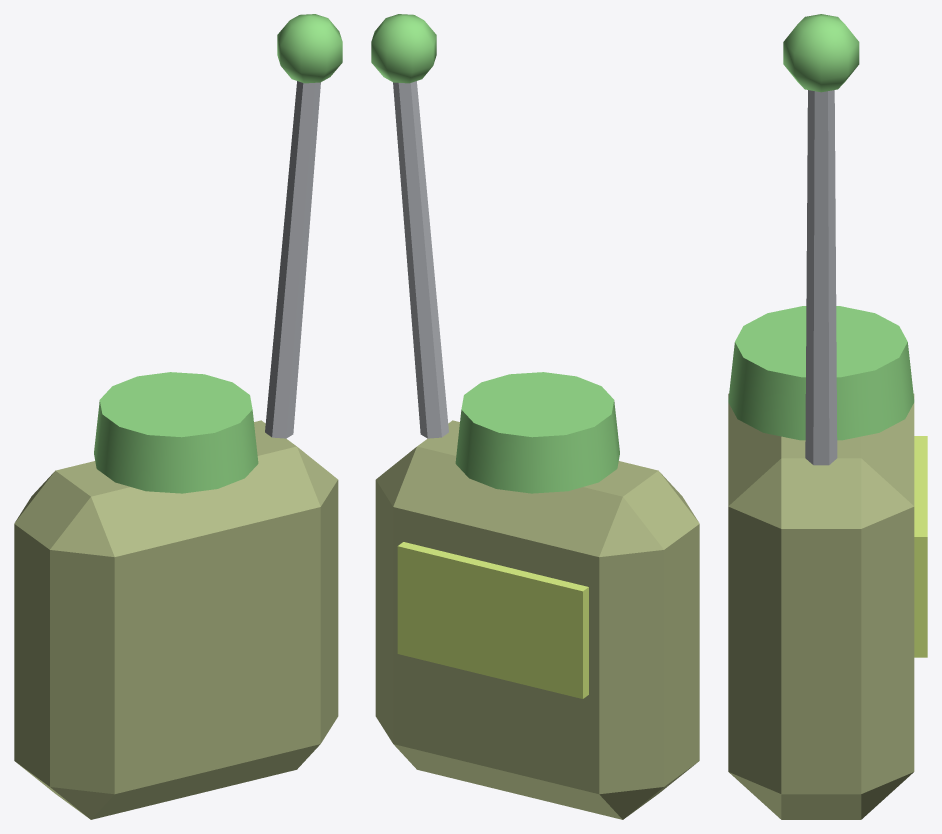
The model's file is ArtilleryStrike.fbx.
3 renders of one model, left to right at view 1: azimuth 30°, elevation 25°; view 2: azimuth 150°, elevation 25°; view 3: azimuth 270°, elevation 25°, orthographic. The views are drawn at different scales.
Parts seen in each view (by area): view 1: ArtilleryStrike; view 2: ArtilleryStrike; view 3: ArtilleryStrike.
Part boxes in pixels (x1,y1,x2,y2): ArtilleryStrike: (14,14,342,819); ArtilleryStrike: (371,14,699,819); ArtilleryStrike: (728,14,927,819).
Size of the model in its own units: 0.2985 by 0.68 by 0.15.
